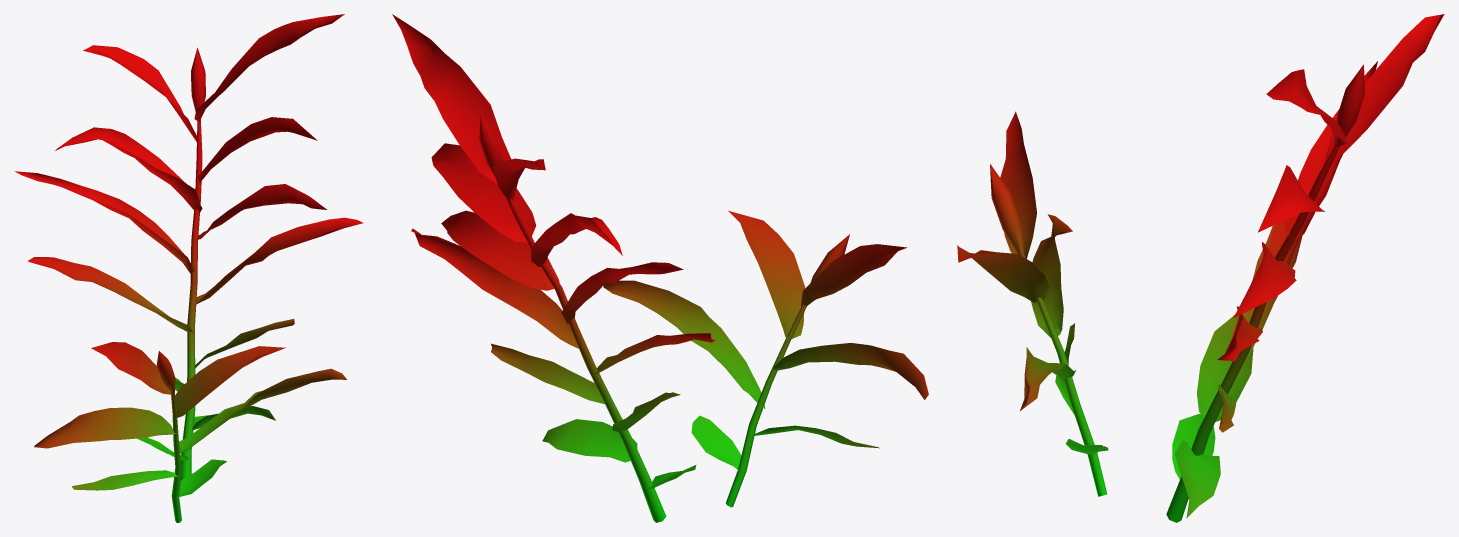
The model's file is Var8_LOD0.fbx.
3 views of the same model, side by side, from view 1: azimuth 30°, elevation 25°; view 2: azimuth 150°, elevation 25°; view 3: azimuth 270°, elevation 25° (orthographic). The views are drawn at different scales.
Parts seen in each view (by area): view 1: _3e93_Var8_LOD0; view 2: _3e93_Var8_LOD0; view 3: _3e93_Var8_LOD0.
Part boxes in pixels (x1,y1,x2,y2): _3e93_Var8_LOD0: (15,14,363,522); _3e93_Var8_LOD0: (392,14,928,522); _3e93_Var8_LOD0: (957,14,1444,522).
Bounding box in the file's own units: 69.16 × 70.34 × 56.05.
